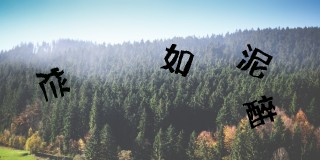如: (161, 43, 195, 77)
泥: (236, 44, 273, 79)
烂: (36, 66, 70, 102)
醉: (242, 95, 277, 130)
